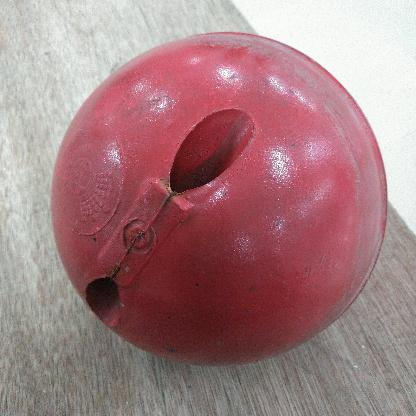red_buoy: (50, 32, 387, 380)
